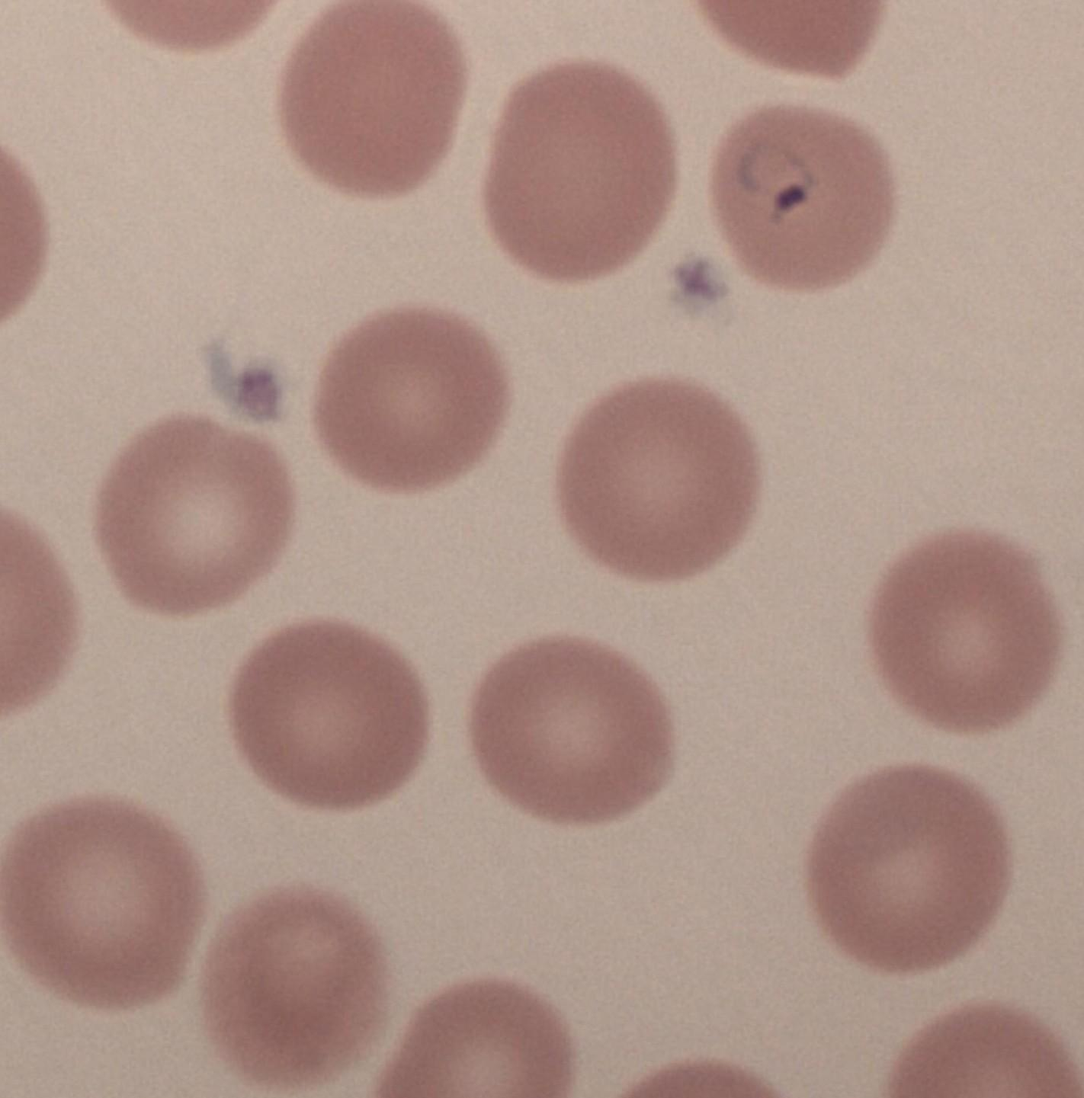Infected: (711, 96, 899, 292)
Uninfected: (806, 760, 1013, 975), (0, 793, 202, 1010), (482, 58, 675, 280), (556, 379, 760, 580), (95, 410, 290, 617), (233, 618, 431, 812), (280, 0, 469, 203), (869, 530, 1054, 734), (473, 637, 672, 824), (316, 303, 510, 490), (208, 892, 385, 1081)
